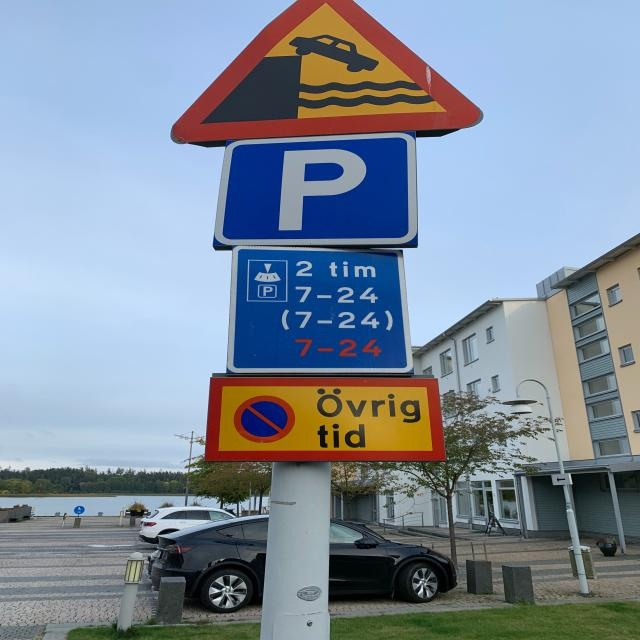lastplats: (214, 131, 418, 247)
